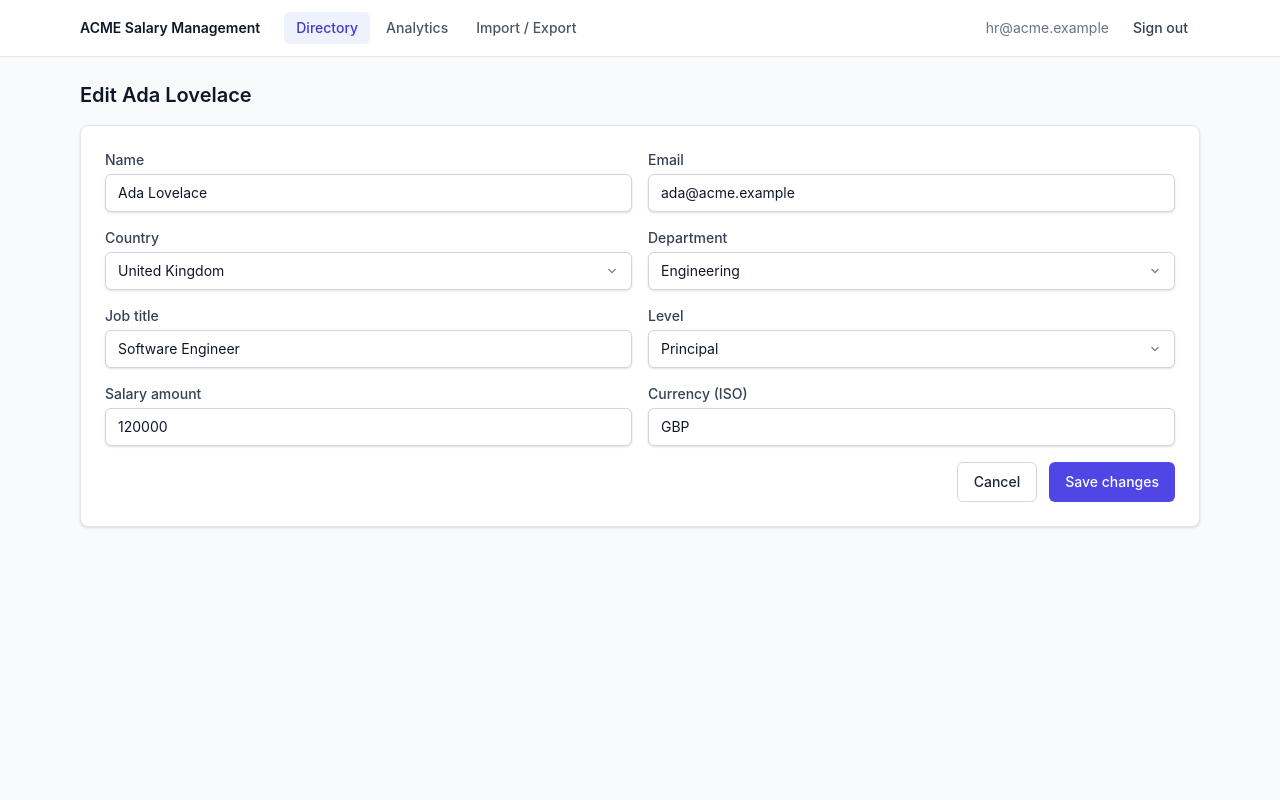
edit employee › loads, submits a PUT, and navigates back to the detail
Replace the text in the field labelled "Name" with "Ada L." at (368, 193), box [105, 174, 632, 212]
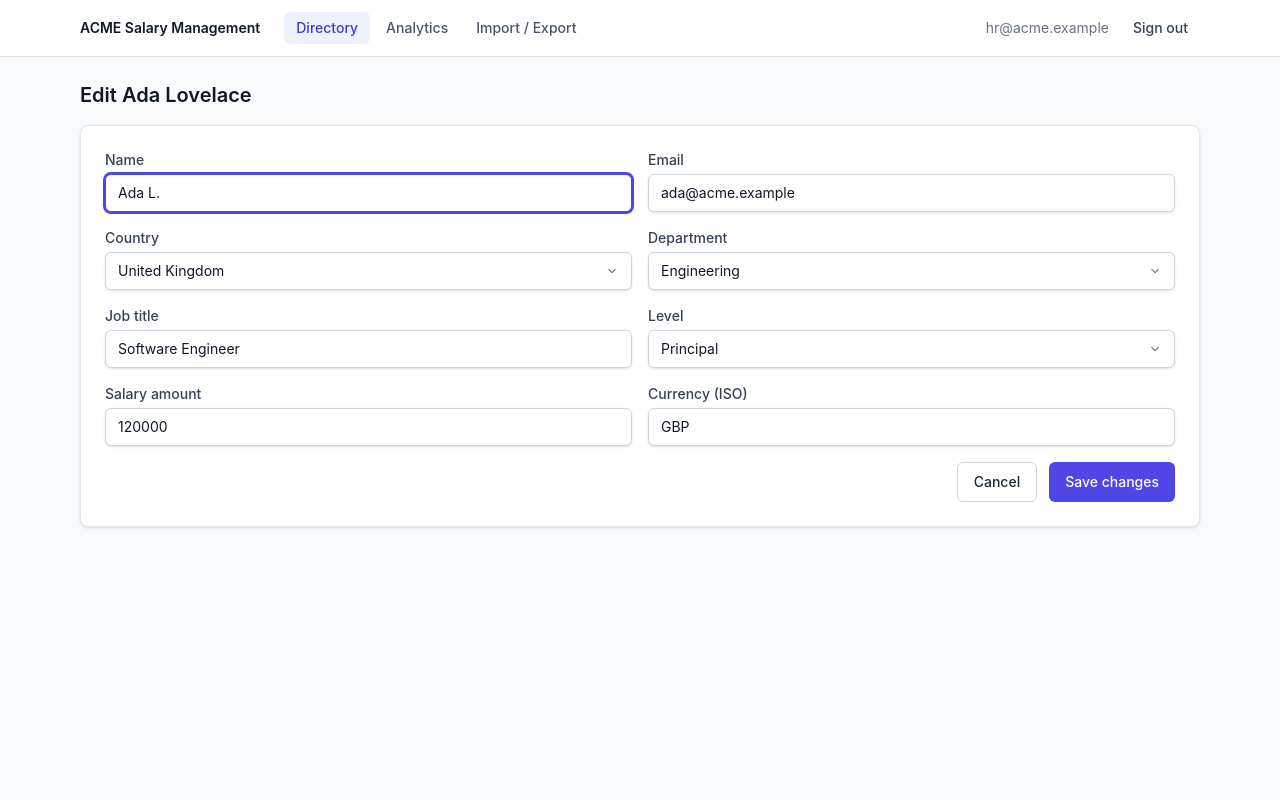
Click the button "Save changes" at (1112, 482), box [1049, 462, 1175, 502]
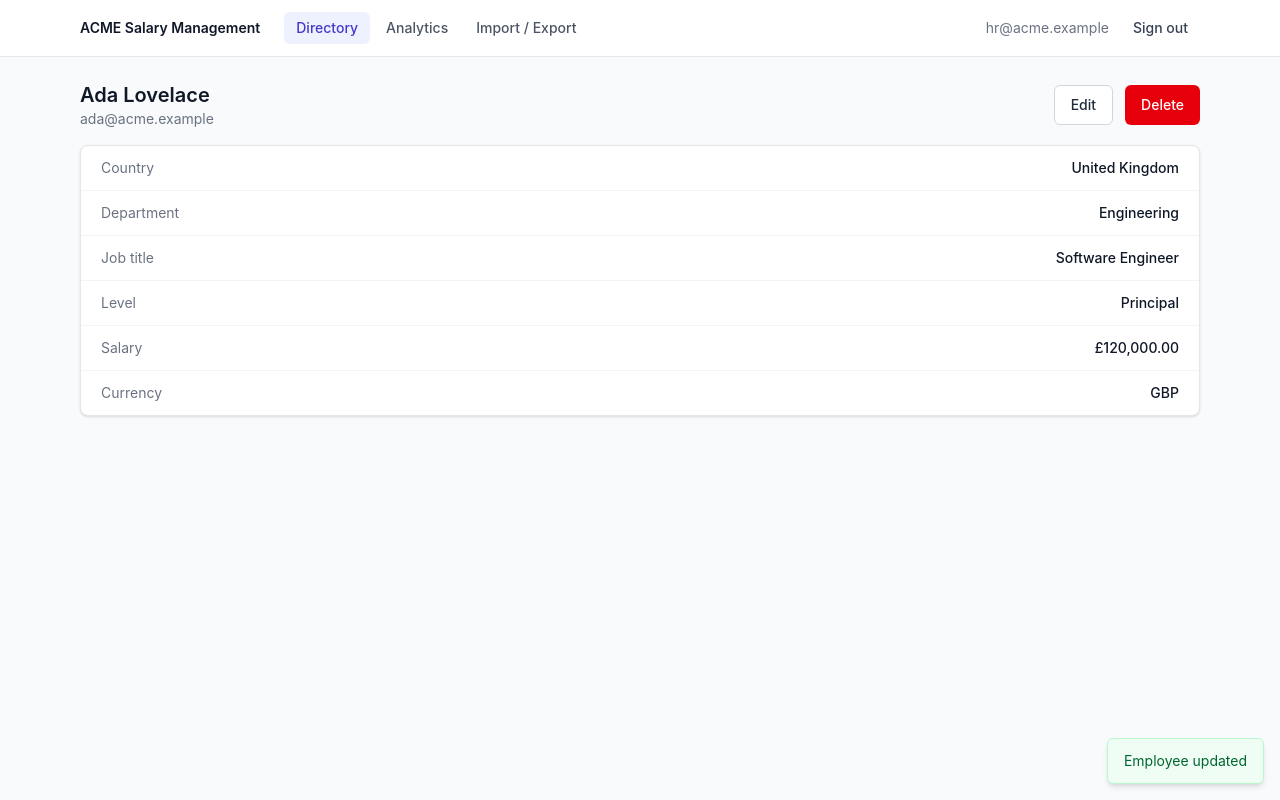
Check: the text "Employee updated" is shown, box [1107, 738, 1264, 784]
